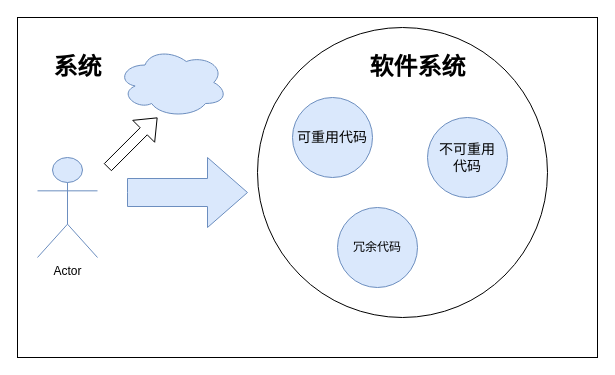
Image size: 615x375. Some labels were removed from this diagram. Here are the shapes that lost their labels. From the top down, the centre of each, then its label:
At point 172,82: "理解".
At point 187,192: "实现需求".
